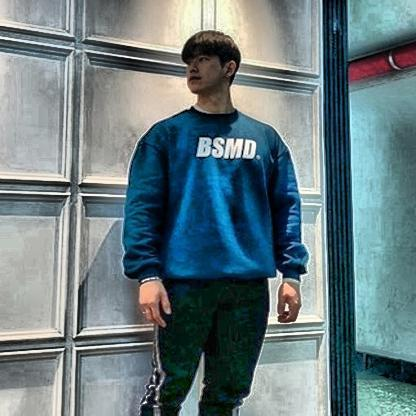sweater: (120, 107, 309, 287)
trousers: (138, 276, 272, 416)
